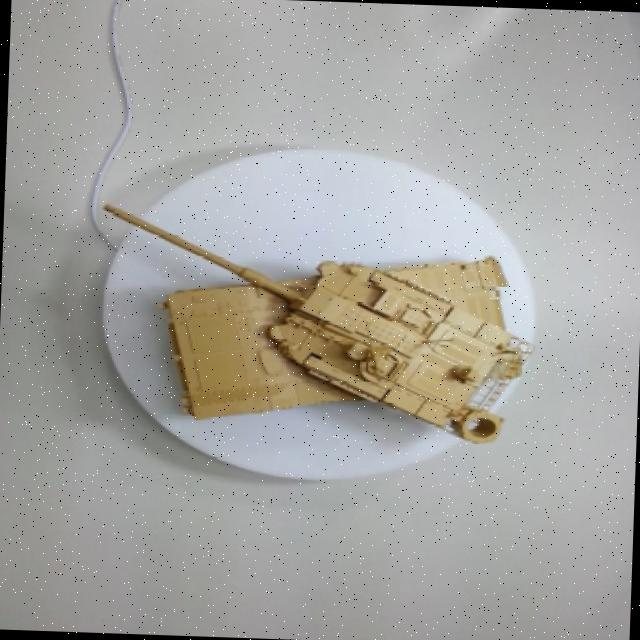korea tank: (96, 112, 554, 496)
